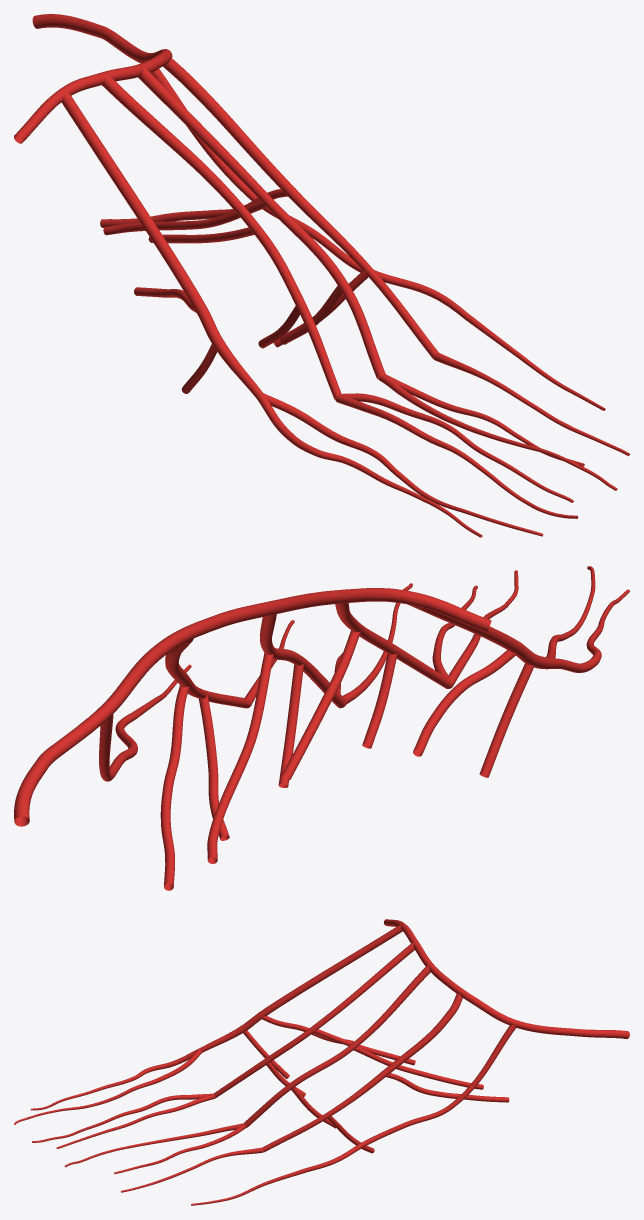
The model's file is circulatorio-dorsal-venous-arch-of-foot-l.glb.
3 renders of one model, top to bottom at view 1: azimuth 30°, elevation 25°; view 2: azimuth 150°, elevation 25°; view 3: azimuth 270°, elevation 25°, orthographic. The views are drawn at different scales.
Parts seen in each view (by area): view 1: Dorsal metatarsal veins.l, Dorsal digital veins of foot.l, Intercapitular veins of foot.l, Dorsal venous arch of foot.l; view 2: Intercapitular veins of foot.l, Dorsal venous arch of foot.l, Dorsal metatarsal veins.l, Dorsal digital veins of foot.l; view 3: Dorsal metatarsal veins.l, Dorsal digital veins of foot.l, Intercapitular veins of foot.l, Dorsal venous arch of foot.l.
Boxes of the visible parts, <box> form: Dorsal metatarsal veins.l: <box>61,58,466,400</box>; Dorsal digital veins of foot.l: <box>257,312,629,537</box>; Intercapitular veins of foot.l: <box>100,189,368,393</box>; Dorsal venous arch of foot.l: <box>14,14,172,143</box>; Intercapitular veins of foot.l: <box>160,630,534,890</box>; Dorsal venous arch of foot.l: <box>14,588,491,826</box>; Dorsal metatarsal veins.l: <box>99,603,566,781</box>; Dorsal digital veins of foot.l: <box>132,566,629,718</box>; Dorsal metatarsal veins.l: <box>199,924,516,1171</box>; Dorsal digital veins of foot.l: <box>14,1048,306,1205</box>; Intercapitular veins of foot.l: <box>243,1016,509,1153</box>; Dorsal venous arch of foot.l: <box>384,919,629,1038</box>.
Size of the model in its own units: 0.0792 by 0.0505 by 0.1618.
